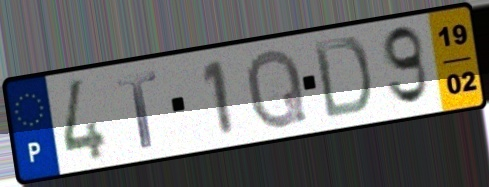1: (200, 57, 238, 137)
4: (59, 75, 111, 165)
9: (379, 25, 433, 110)
D: (310, 35, 374, 122)
Q: (244, 45, 311, 133)
T: (113, 68, 160, 151)
